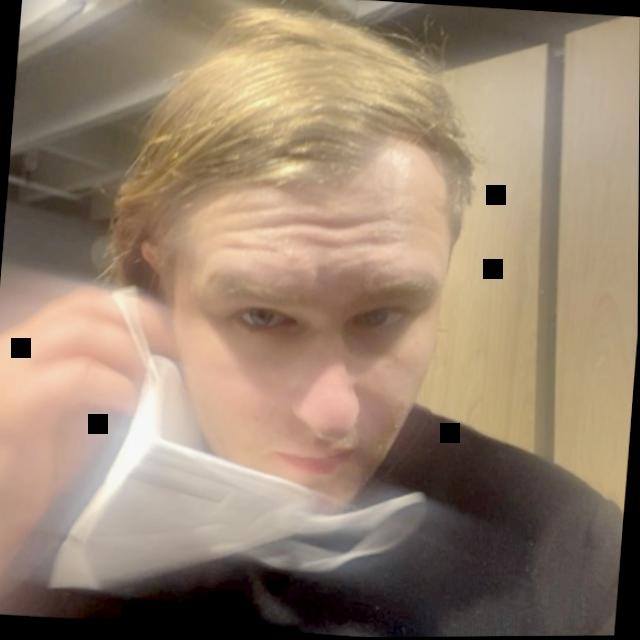NO-Mask: (120, 0, 470, 479)
